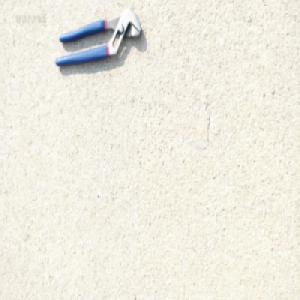Pliers: (54, 7, 142, 69)
